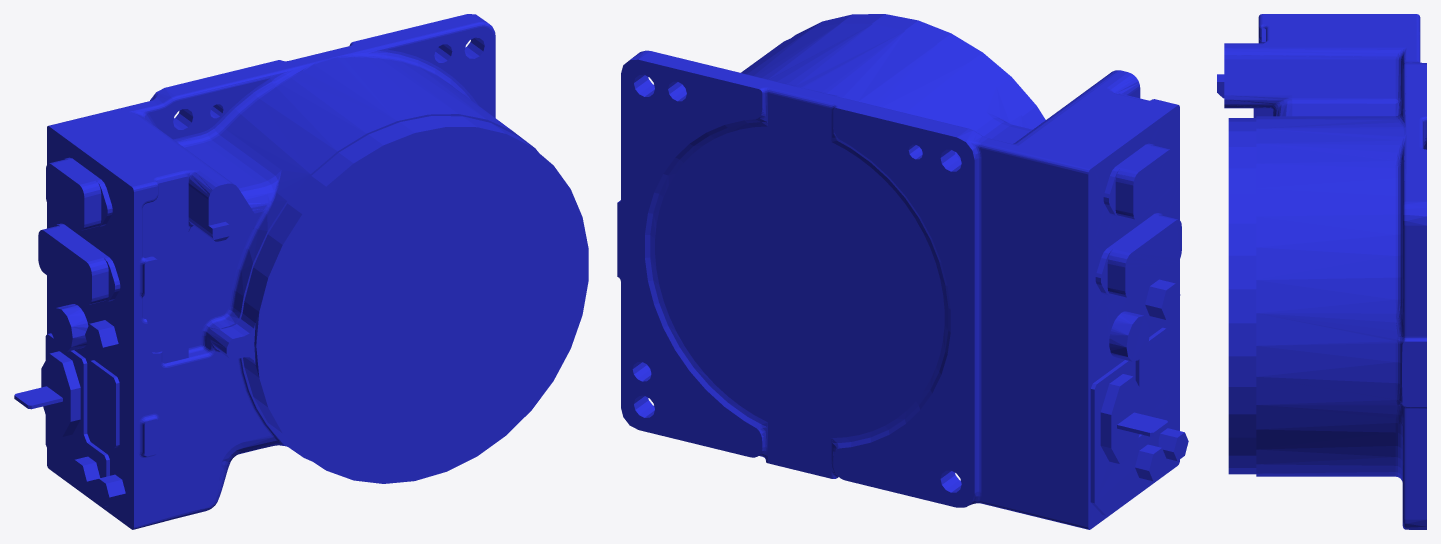
Rendered from BaseLink.glb.
3 views of the same model, side by side, from view 1: azimuth 30°, elevation 25°; view 2: azimuth 150°, elevation 25°; view 3: azimuth 270°, elevation 25° (orthographic). The views are drawn at different scales.
Parts seen in each view (by area): view 1: /BaseLink/BaseLink_004-mesh/0; view 2: /BaseLink/BaseLink_004-mesh/0; view 3: /BaseLink/BaseLink_004-mesh/0.
Boxes of the visible parts, x1,y1,x2,y2 form: /BaseLink/BaseLink_004-mesh/0: [14, 14, 588, 529]; /BaseLink/BaseLink_004-mesh/0: [617, 14, 1188, 529]; /BaseLink/BaseLink_004-mesh/0: [1217, 14, 1426, 529].
Size of the model in its own units: 0.4384 by 0.303 by 0.1745.
